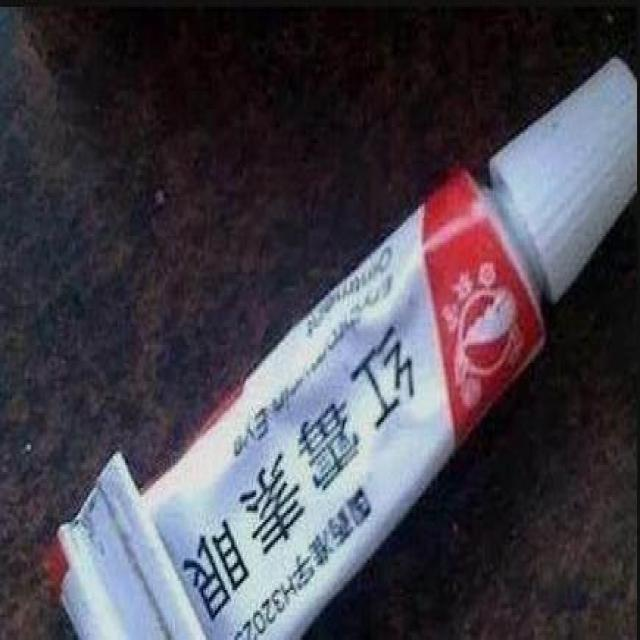-Hazardous waste - medicine inner packaging-: (44, 58, 636, 638)
